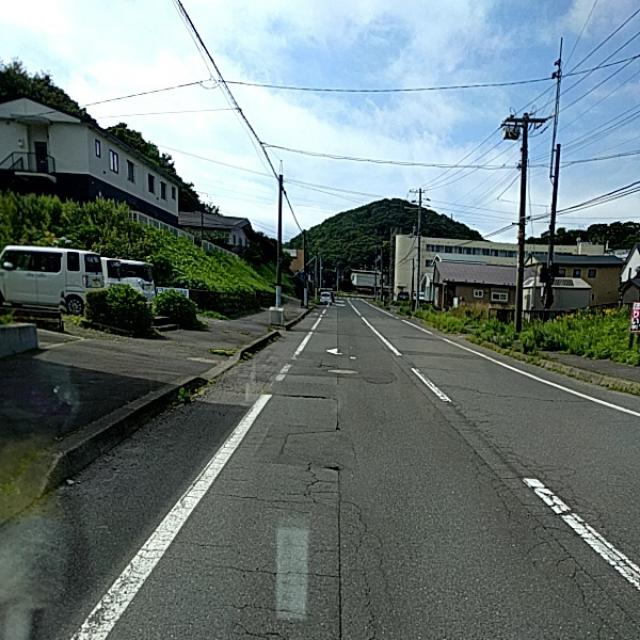pothole: (251, 432, 406, 606)
